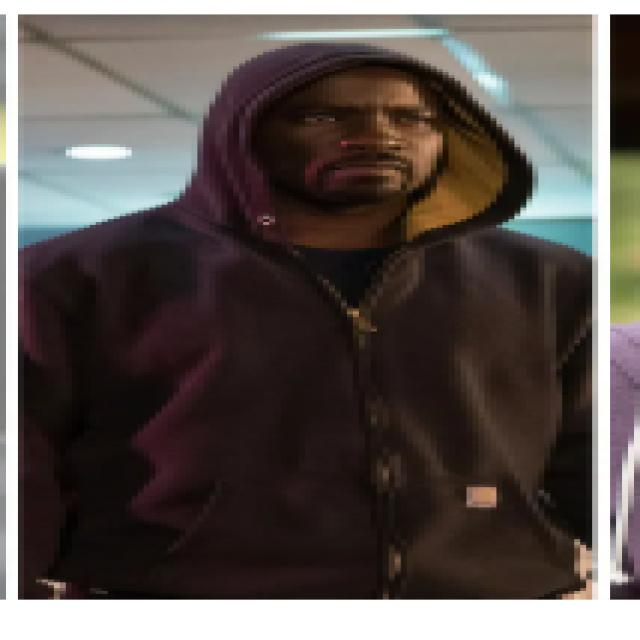4_capucha: (177, 39, 539, 254)
